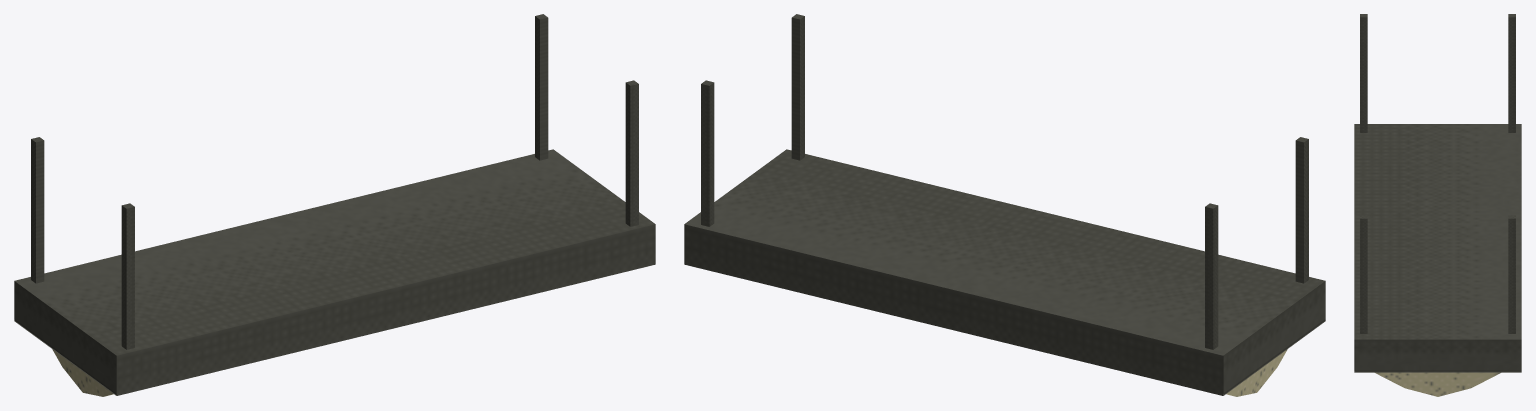
Rendered from ceiling_light.fbx.
3 views of the same model, side by side, from view 1: azimuth 30°, elevation 25°; view 2: azimuth 150°, elevation 25°; view 3: azimuth 270°, elevation 25° (orthographic). The views are drawn at different scales.
Visible parts, largest first — view 1: Cube.016, Cube.017, Cube.015; view 2: Cube.016, Cube.017, Cube.015; view 3: Cube.016, Cube.017, Cube.015.
Boxes of the visible parts, left/top/right/bottom form: Cube.016: left=14, top=149, right=655, bottom=395; Cube.017: left=31, top=14, right=638, bottom=349; Cube.015: left=52, top=349, right=113, bottom=396; Cube.016: left=684, top=149, right=1325, bottom=395; Cube.017: left=701, top=14, right=1308, bottom=349; Cube.015: left=1226, top=349, right=1287, bottom=396; Cube.016: left=1354, top=124, right=1521, bottom=372; Cube.017: left=1360, top=14, right=1515, bottom=333; Cube.015: left=1375, top=372, right=1500, bottom=396.
Size of the model in its own units: 723 by 282 by 238.
Materials: 1 (1 with a texture image).
